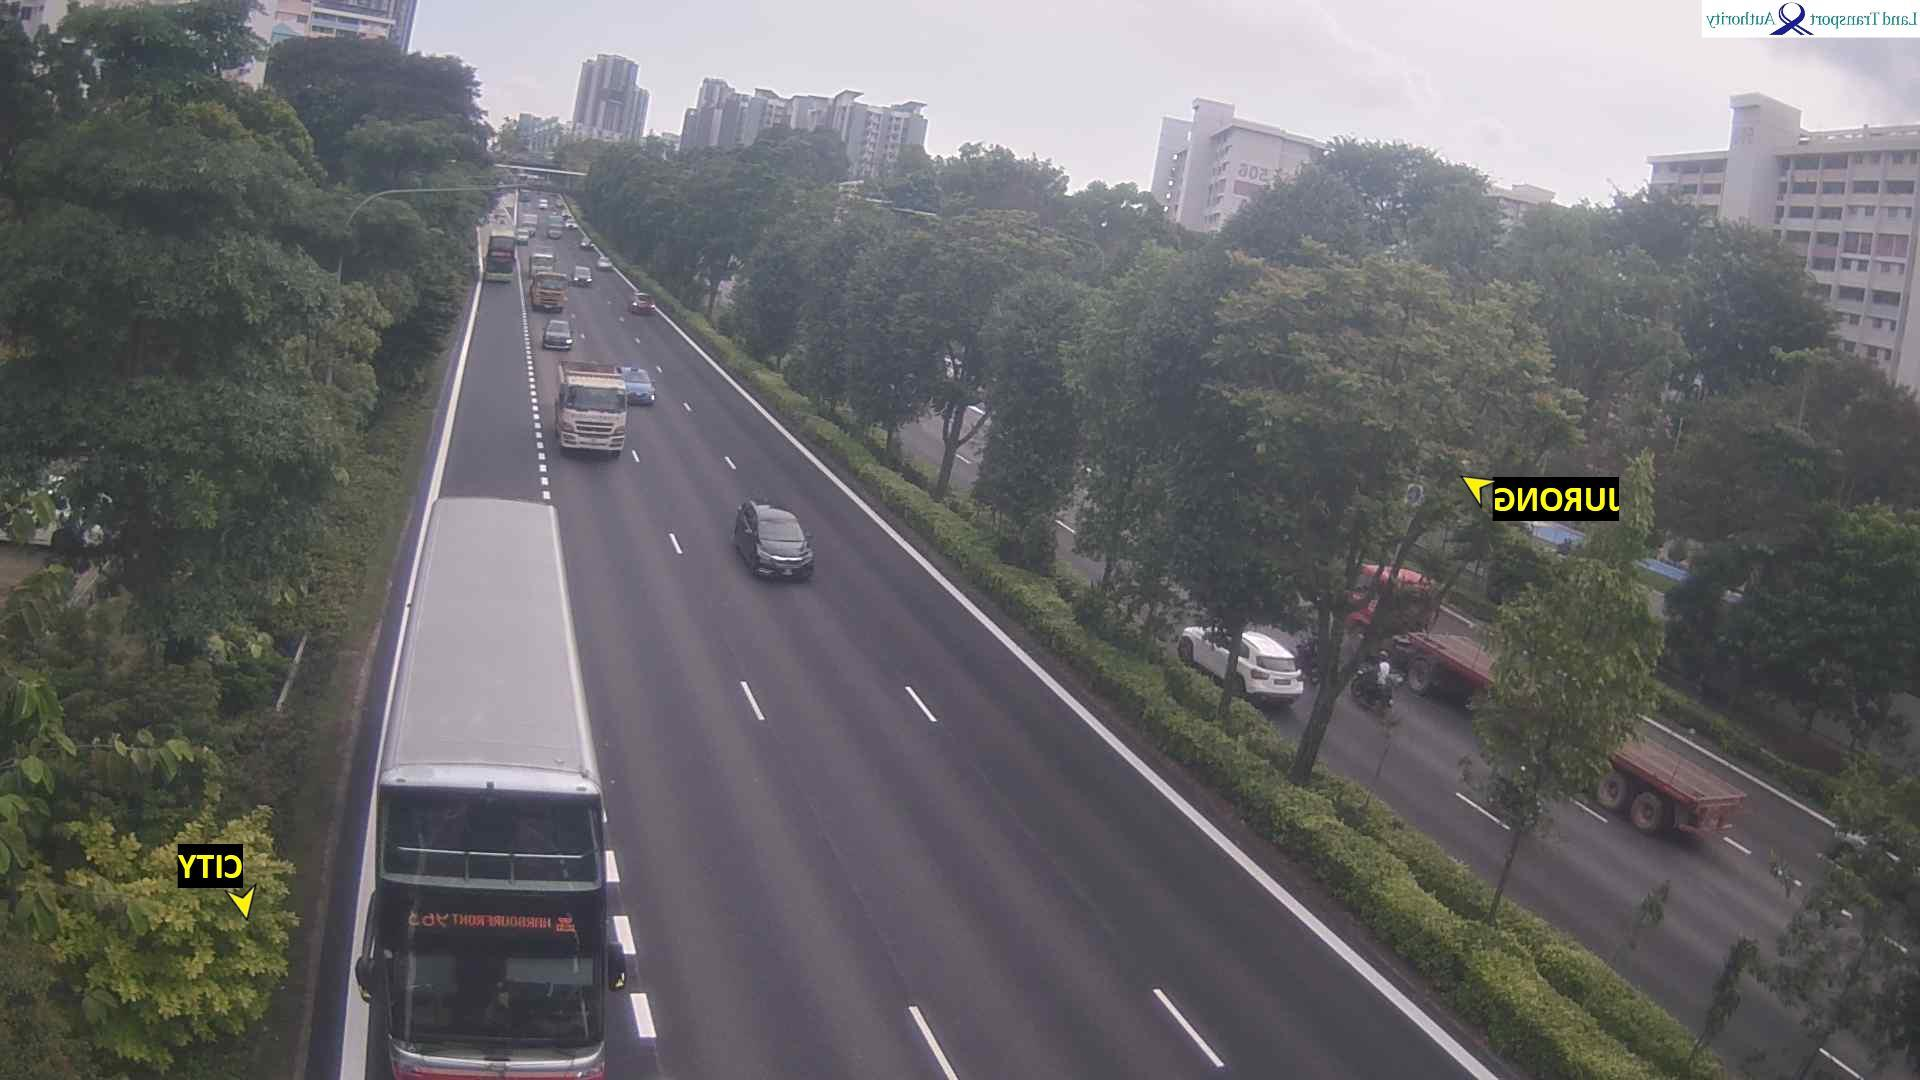incoming: (352, 765, 632, 1073), (547, 384, 628, 456), (746, 516, 816, 582), (480, 231, 521, 284), (530, 273, 572, 314), (618, 371, 661, 406), (542, 323, 578, 349), (625, 295, 657, 314), (526, 253, 555, 273), (574, 265, 593, 287), (546, 224, 564, 243), (576, 235, 597, 251), (593, 257, 613, 273)
